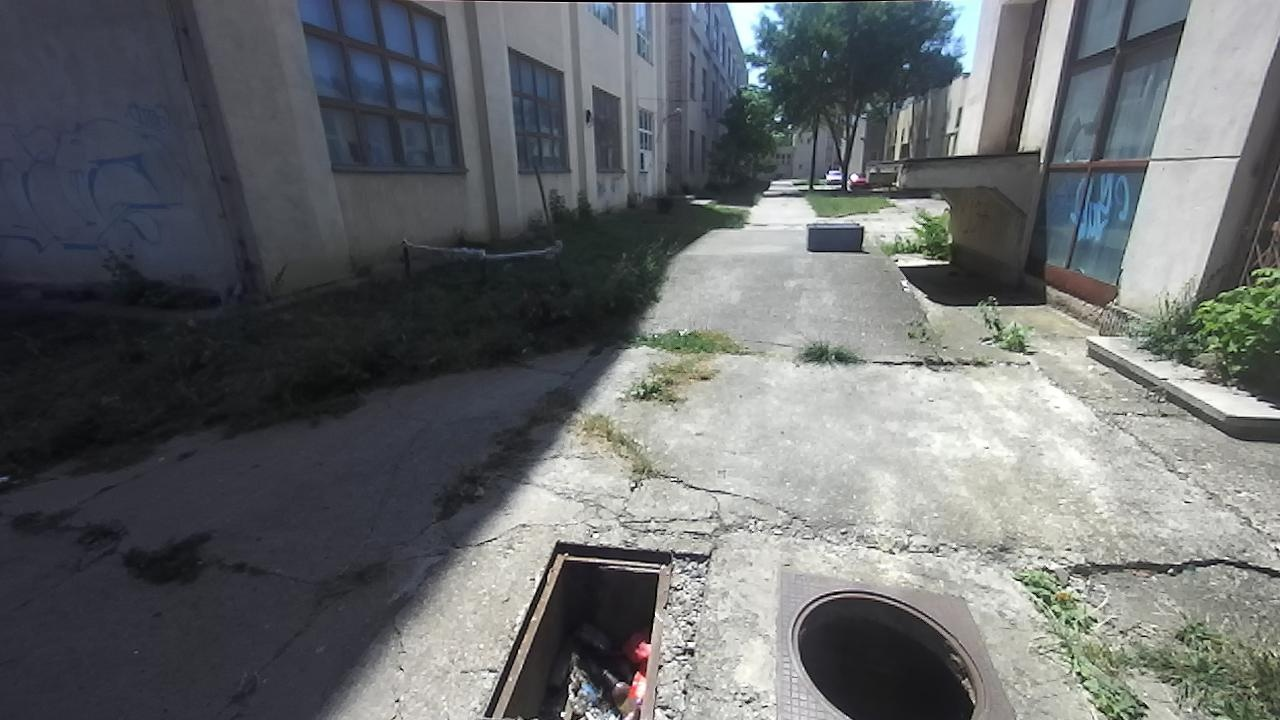drain: (472, 533, 679, 719), (787, 586, 989, 719)
